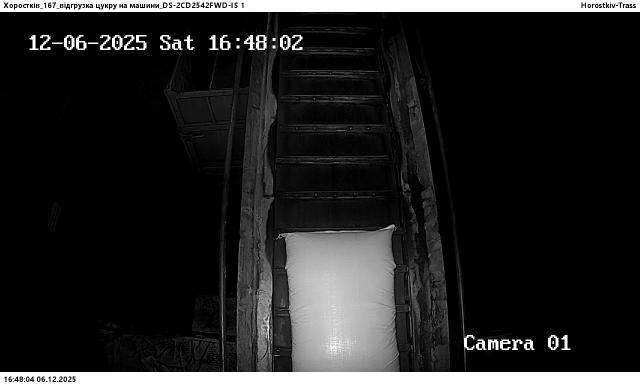bag: (282, 225, 401, 372)
